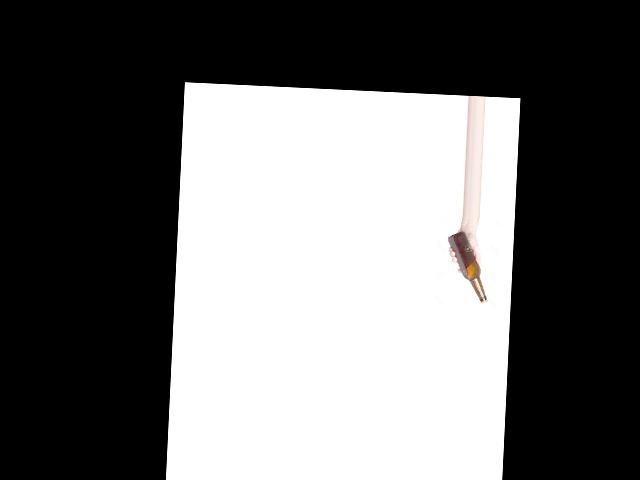beer: (445, 231, 491, 303)
